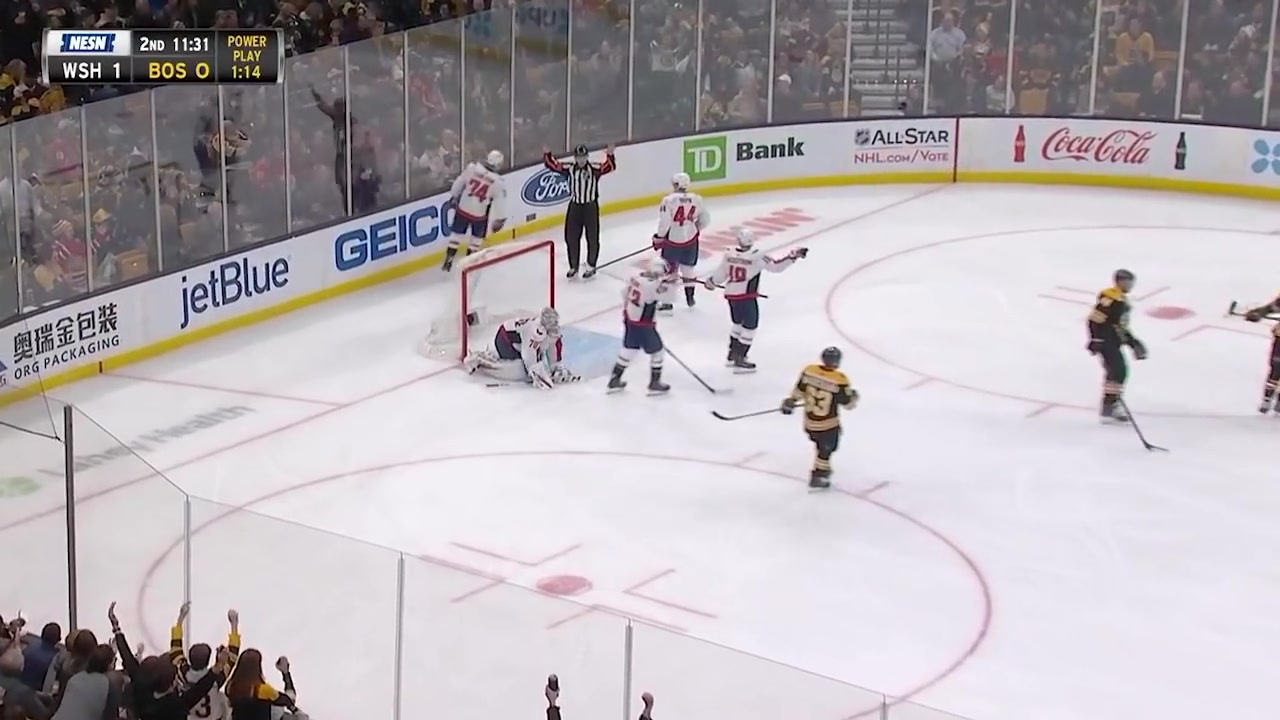geico: (328, 199, 467, 274)
